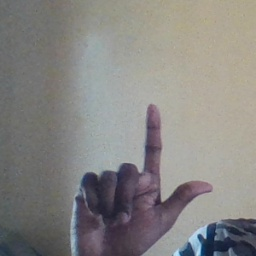L: (64, 103, 215, 256)
